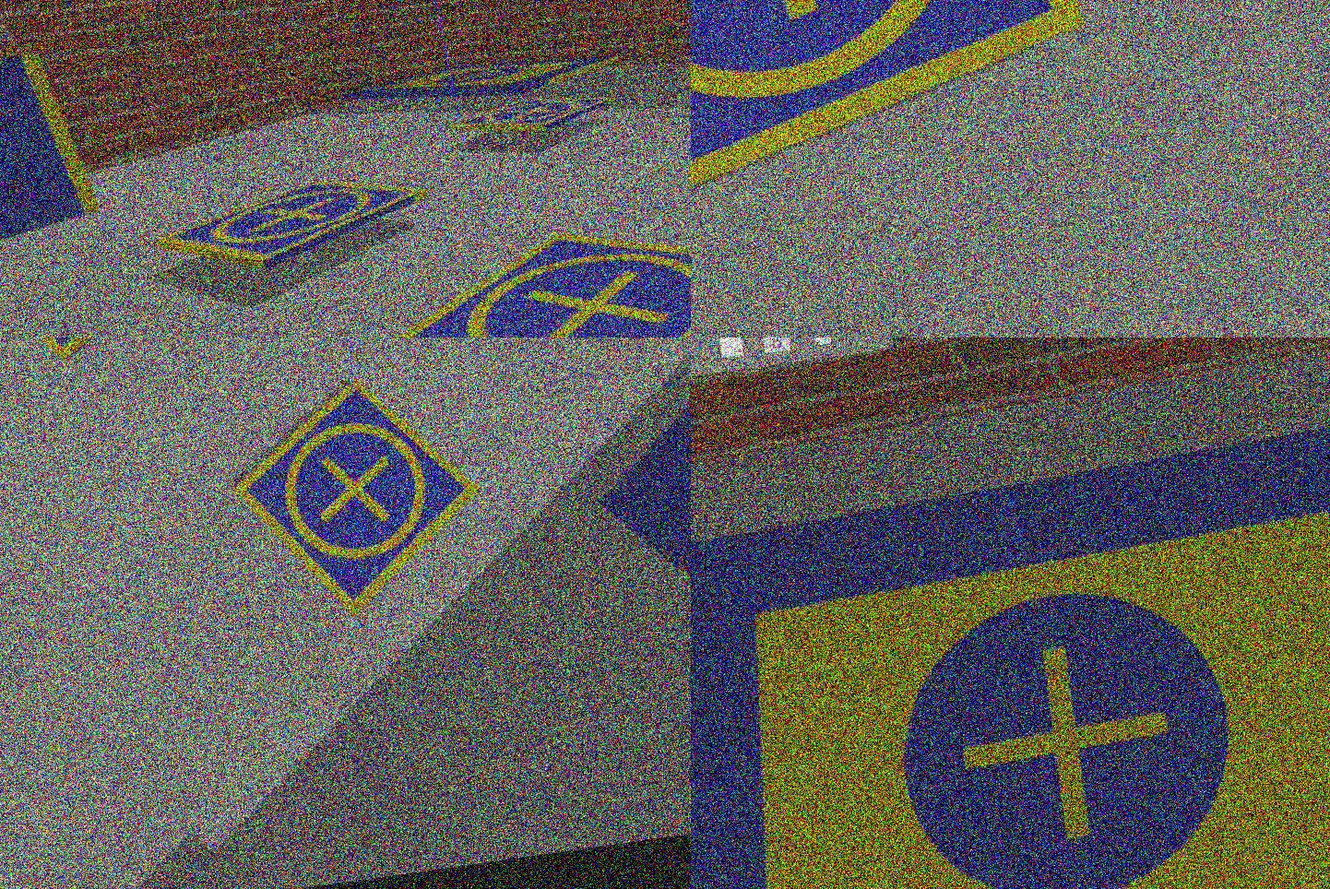large_base: (692, 408, 1330, 889), (557, 338, 692, 839), (338, 38, 629, 124)
small_base: (692, 1, 1103, 243), (218, 362, 498, 627), (358, 203, 692, 338), (157, 166, 437, 284), (444, 81, 623, 153)
